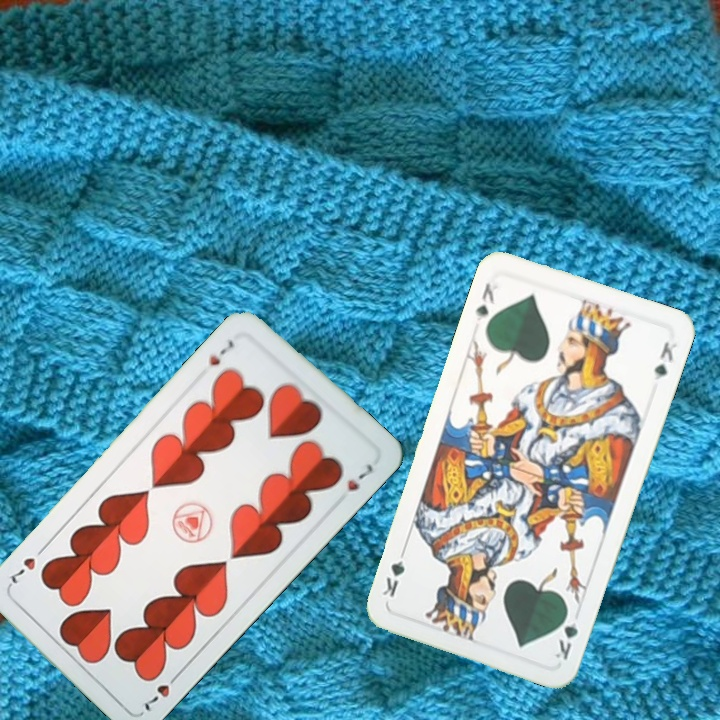GK: (551, 605, 582, 663), (472, 279, 501, 326)
H7: (136, 668, 184, 716), (204, 336, 237, 369)
